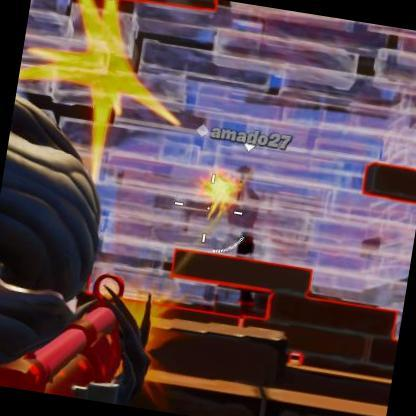person: (197, 160, 273, 307)
